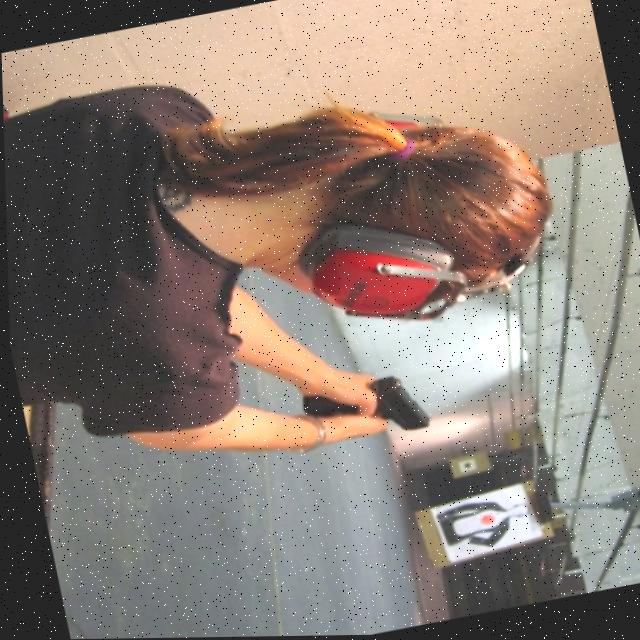pistol: (365, 369, 432, 436)
